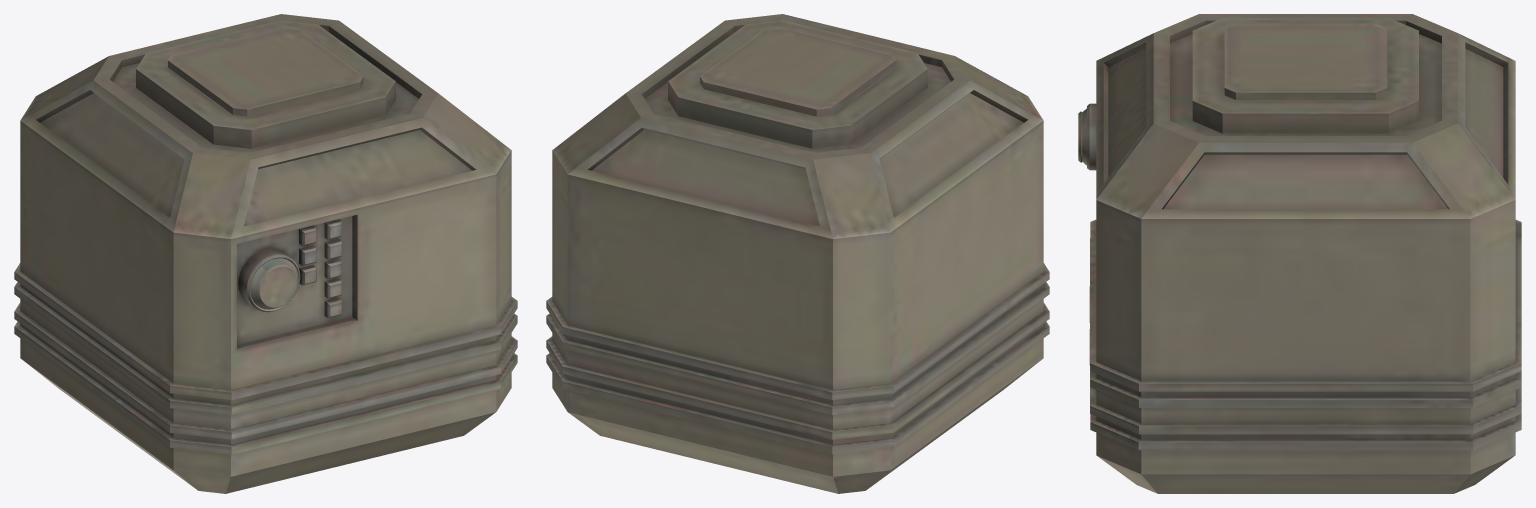
The model's file is SM_crate_01.glb.
The picture shows the model from 3 angles, left to right: view 1: azimuth 30°, elevation 25°; view 2: azimuth 150°, elevation 25°; view 3: azimuth 270°, elevation 25°; orthographic projection. The views are drawn at different scales.
Visible parts, largest first — view 1: SM_crate_01; view 2: SM_crate_01; view 3: SM_crate_01.
Part boxes in pixels (bbox=[...]): SM_crate_01: bbox=[14, 14, 517, 493]; SM_crate_01: bbox=[546, 14, 1049, 493]; SM_crate_01: bbox=[1078, 14, 1521, 493].
Bounding box in the file's own units: 0.8424 × 0.7851 × 0.8655.
Materials: 1 (1 with a texture image).
